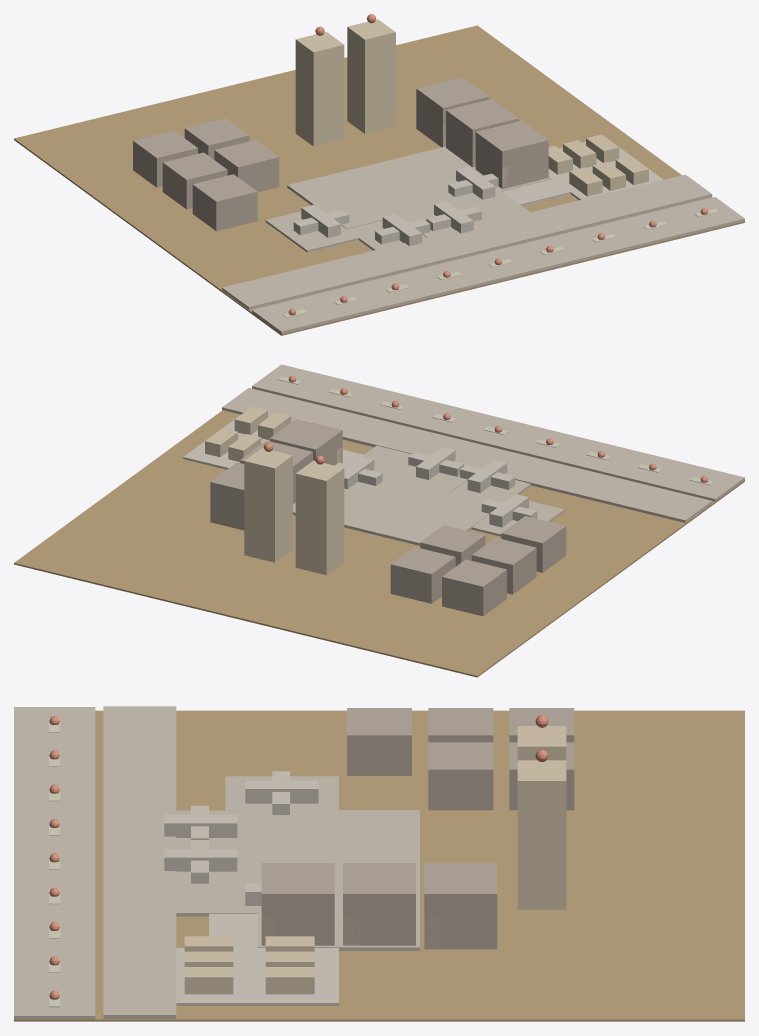
The model's file is stage_22.glb.
The picture shows the model from 3 angles, top to bottom: view 1: azimuth 30°, elevation 25°; view 2: azimuth 150°, elevation 25°; view 3: azimuth 270°, elevation 25°; orthographic projection. The views are drawn at different scales.
Parts seen in each view (by area): view 1: geometry_0; view 2: geometry_0; view 3: geometry_0.
Boxes of the visible parts, bbox=[...] form: geometry_0: bbox=[14, 14, 744, 335]; geometry_0: bbox=[14, 364, 744, 677]; geometry_0: bbox=[14, 706, 744, 1021].
Size of the model in its own units: 9 by 2.06 by 9.
